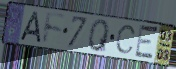7: (67, 14, 90, 50)
A: (18, 10, 43, 44)
C: (114, 24, 137, 56)
E: (133, 22, 160, 62)
F: (42, 10, 67, 46)
Q: (87, 18, 111, 54)
